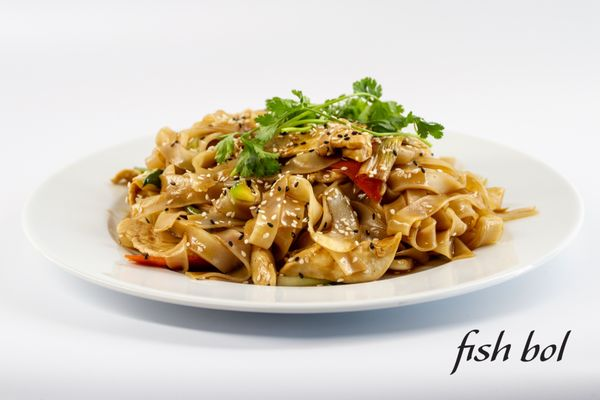curry: (8, 4, 598, 388)
